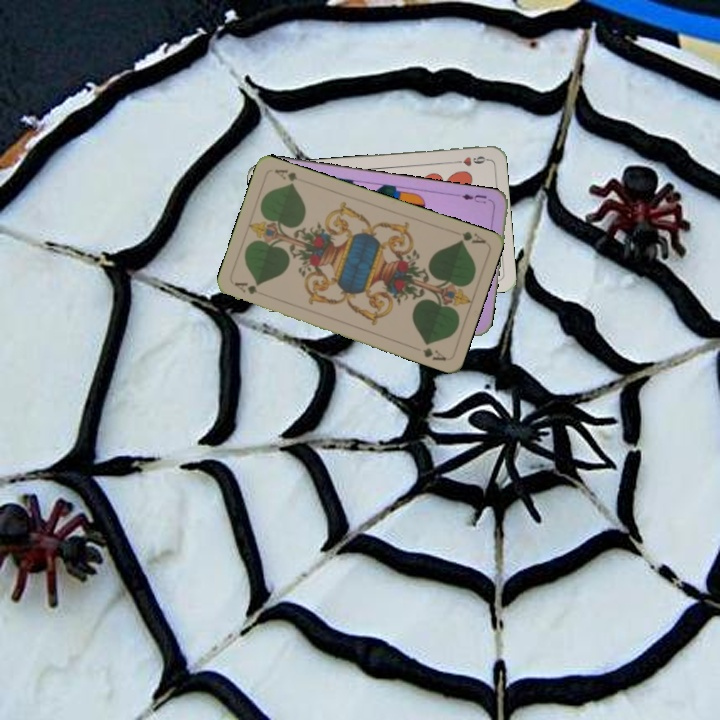EU: (454, 190, 494, 206)
GA: (454, 227, 488, 246), (231, 278, 260, 297)
H9: (450, 152, 490, 168)
